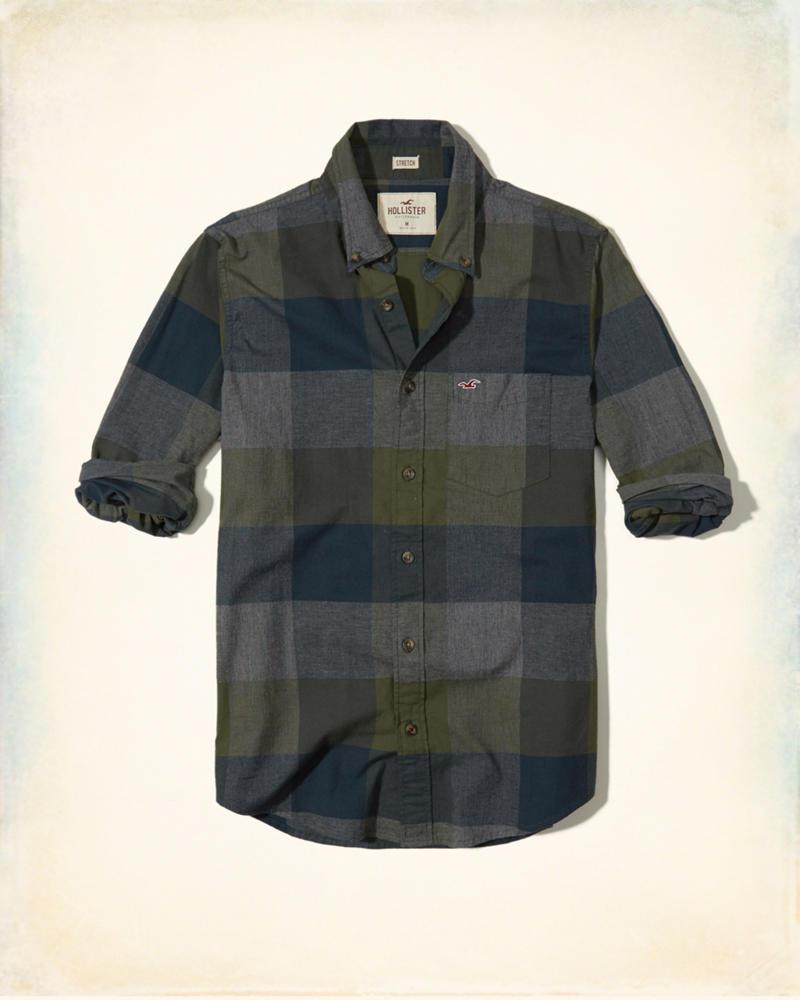teeshirt: (71, 109, 758, 877)
